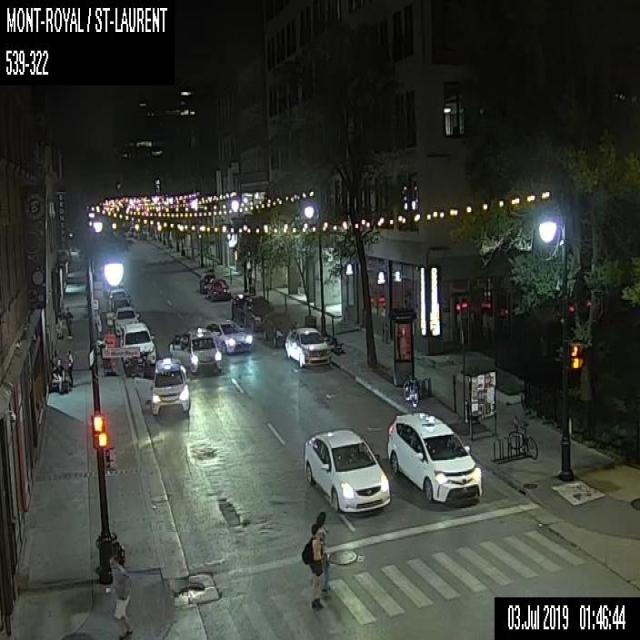pedestrian: (104, 550, 132, 638), (301, 522, 319, 608), (317, 513, 331, 591), (64, 348, 76, 388), (55, 357, 64, 393), (64, 305, 72, 335)
vehicle: (384, 409, 482, 508), (304, 428, 390, 513), (168, 330, 222, 373), (151, 358, 190, 417), (283, 326, 332, 368), (204, 321, 254, 352), (122, 322, 154, 362), (262, 313, 297, 348), (244, 294, 271, 326), (114, 306, 140, 333), (122, 351, 150, 376), (208, 278, 231, 301), (229, 293, 246, 322), (109, 289, 129, 312), (198, 271, 215, 294)
